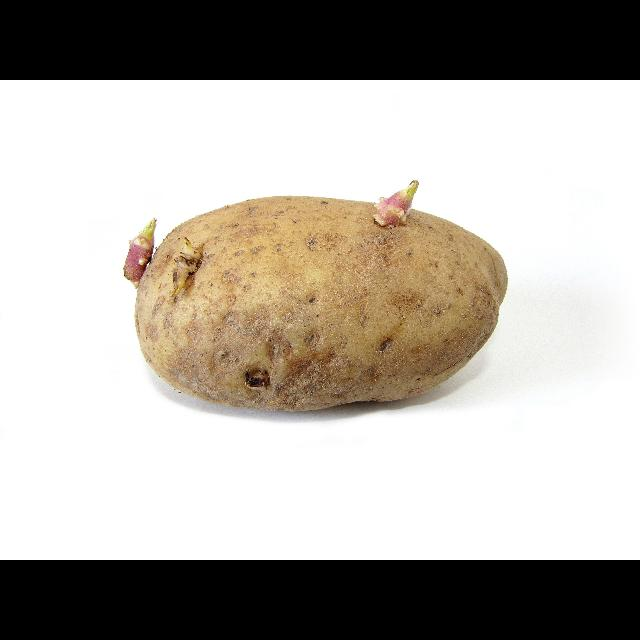Sprouted potato: (134, 200, 506, 418)
